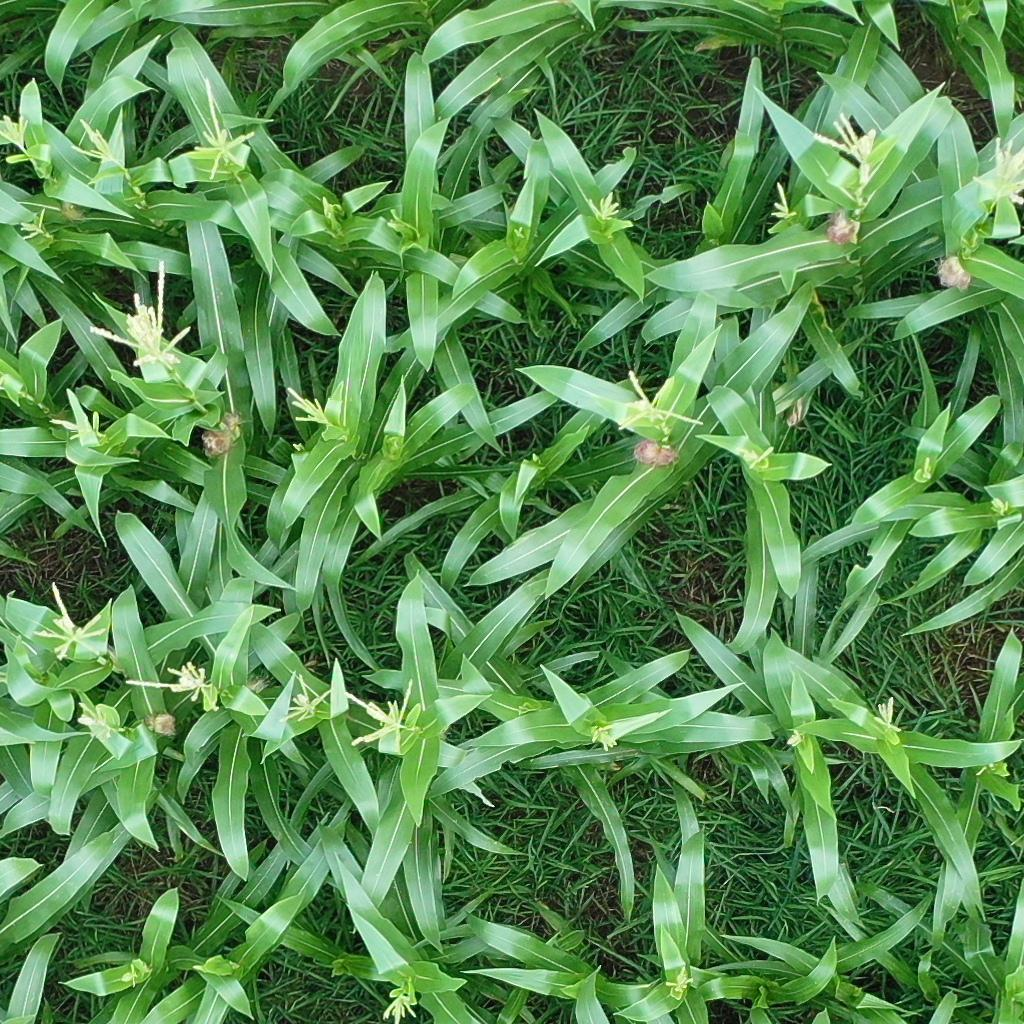Tassel: (83, 256, 198, 375), (186, 72, 259, 186), (333, 670, 423, 752), (614, 369, 707, 443), (34, 582, 113, 669), (813, 105, 885, 186), (120, 657, 216, 712), (967, 133, 1024, 215), (275, 669, 334, 731), (65, 118, 124, 179), (285, 390, 339, 434), (49, 414, 105, 446), (382, 981, 424, 1023), (12, 205, 52, 246), (660, 964, 698, 1002), (765, 177, 798, 220), (739, 438, 775, 477), (588, 720, 629, 754), (872, 700, 906, 739), (73, 703, 113, 736), (1, 110, 31, 151), (587, 192, 622, 223), (988, 495, 1015, 517), (786, 728, 806, 752), (916, 456, 934, 479), (512, 225, 524, 239)
